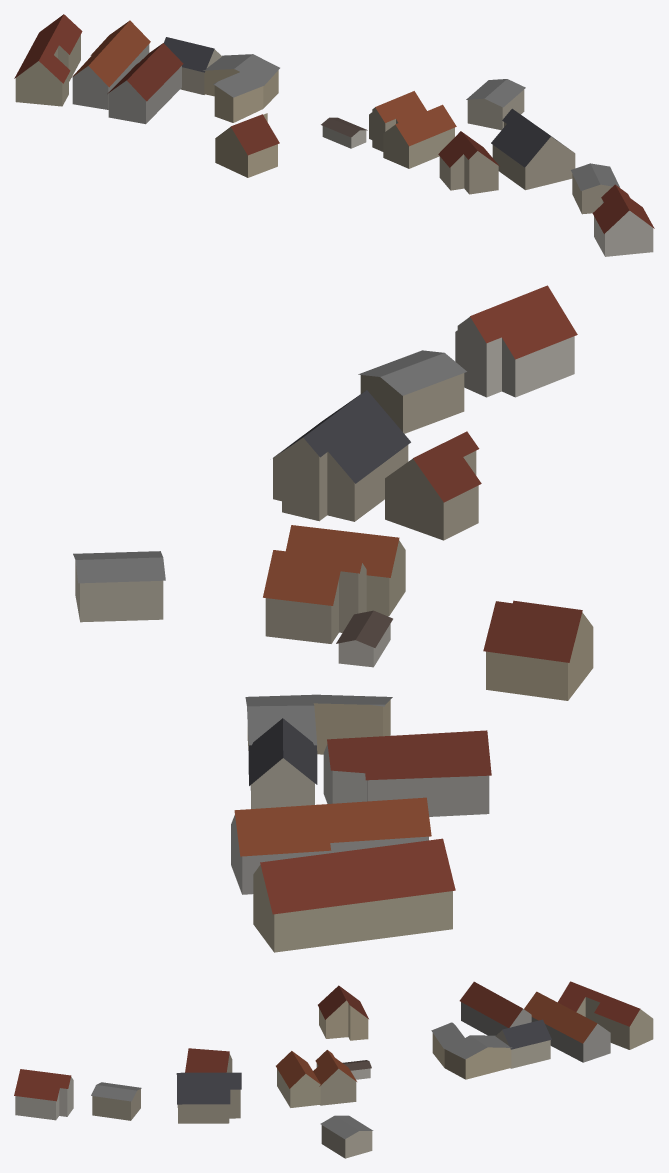
The picture shows the model from 3 angles, top to bottom: view 1: azimuth 30°, elevation 25°; view 2: azimuth 150°, elevation 25°; view 3: azimuth 270°, elevation 25°; orthographic projection. The views are drawn at different scales.
Parts seen in each view (by area): view 1: buildings; view 2: buildings; view 3: buildings.
Part boxes in pixels (left/top/right/bottom): buildings: left=14, top=14, right=654, bottom=256; buildings: left=73, top=285, right=593, bottom=952; buildings: left=14, top=981, right=653, bottom=1158.
Size of the model in its own units: 96.75 by 17.84 by 172.
